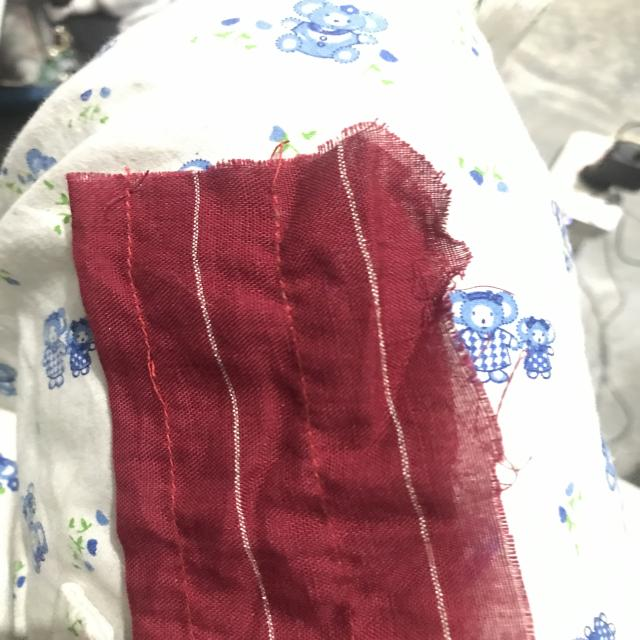good: (121, 257, 148, 311)
skip: (129, 344, 191, 422)
